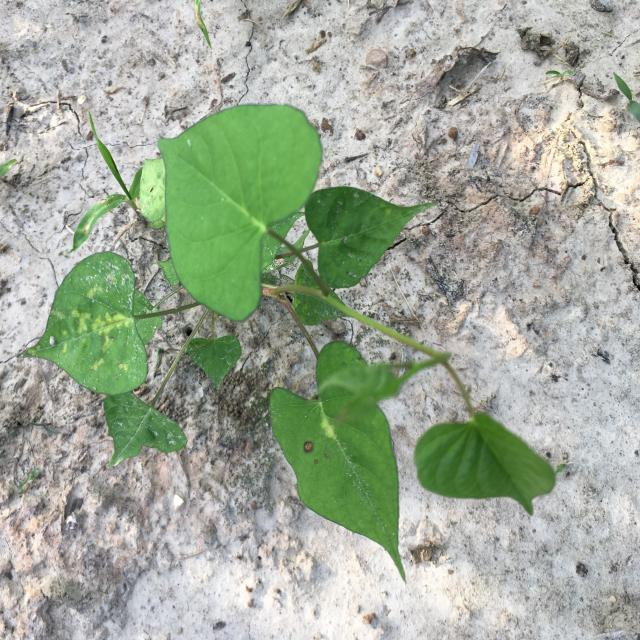MorningGlory: (16, 104, 555, 584)
